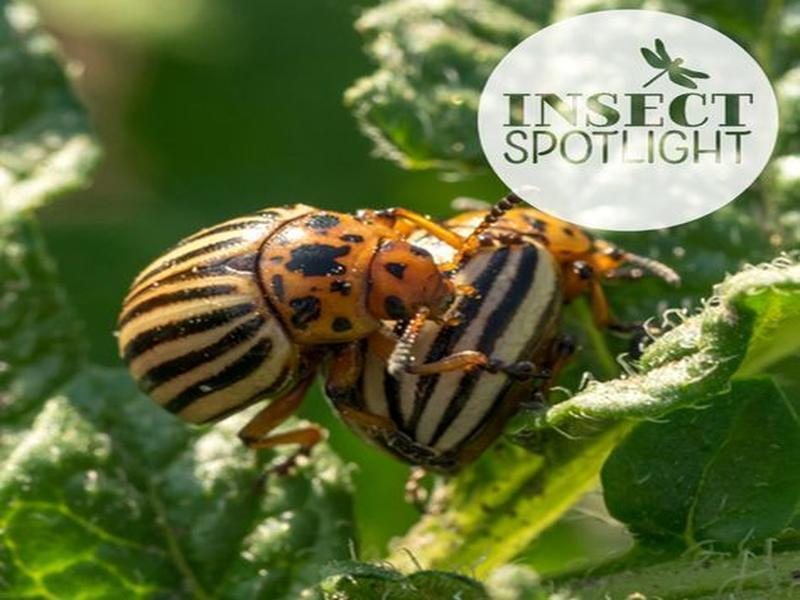hrosc: (100, 196, 451, 451)
